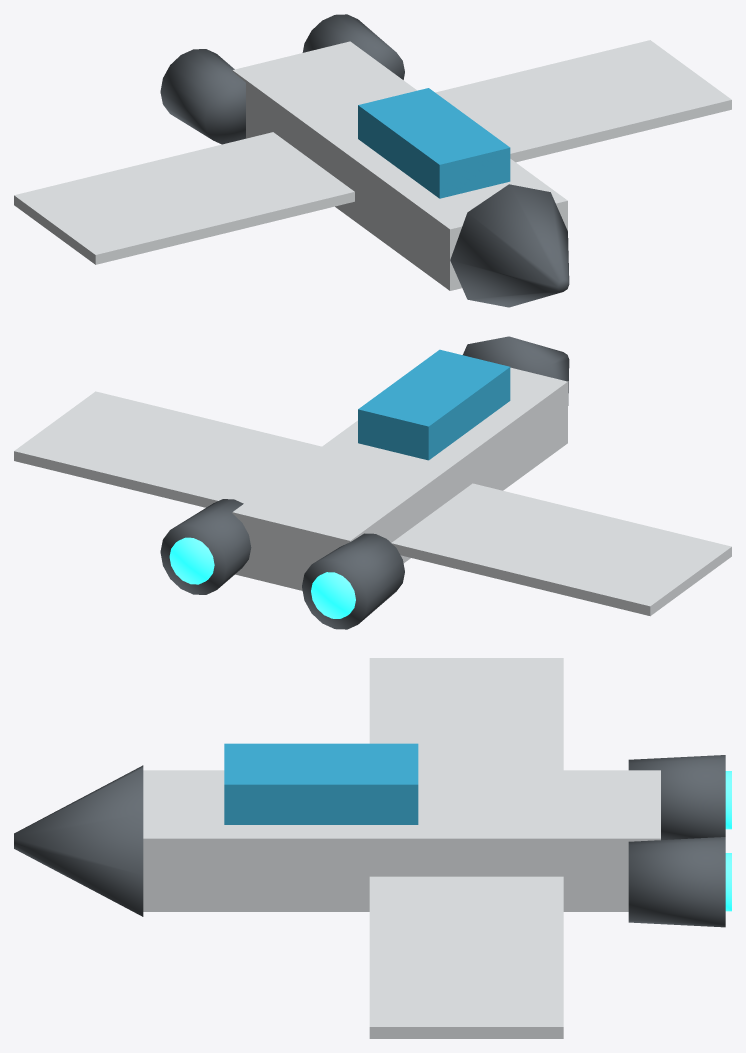
File: 153a02ff-f15d-453b-8ea8-8e5fef0bab7a.glb
The picture shows the model from 3 angles, top to bottom: view 1: azimuth 30°, elevation 25°; view 2: azimuth 150°, elevation 25°; view 3: azimuth 270°, elevation 25°; orthographic projection. The views are drawn at different scales.
Visible parts, largest first — view 1: GeneratedObject3D; view 2: GeneratedObject3D; view 3: GeneratedObject3D.
Boxes of the visible parts, x1=… form: GeneratedObject3D: x1=14, y1=14, x2=731, y2=307; GeneratedObject3D: x1=14, y1=336, x2=731, y2=629; GeneratedObject3D: x1=14, y1=658, x2=731, y2=1038.
Bounding box in the file's own units: 5.4 × 1.02 × 4.44.
